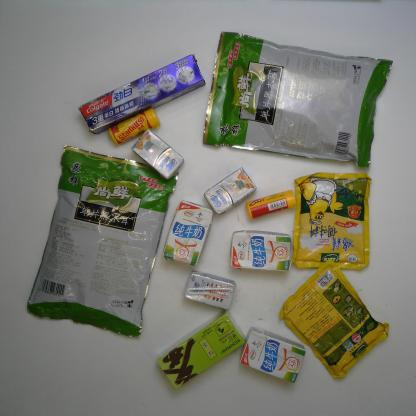Candy: (108, 107, 162, 145), (245, 190, 296, 219)
Dried Food: (26, 143, 179, 340), (200, 30, 394, 168)
Instant Drink: (156, 310, 246, 390)
Milk: (239, 328, 306, 384), (162, 200, 213, 268), (228, 229, 291, 273), (202, 167, 258, 215), (132, 130, 184, 179), (181, 270, 238, 310)
Personal Hygiene: (76, 52, 206, 136)
Seasoner: (277, 259, 389, 380), (291, 172, 373, 270)
